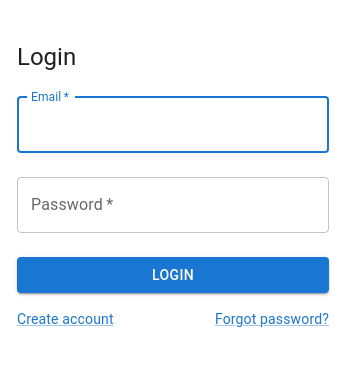
Test: LoginPage › shows error alert on login failure
The width and height of the screenshot is (347, 376).
In the field labelled "Email *": x=173, y=125 [17, 97, 329, 153], type "bad@test.com"
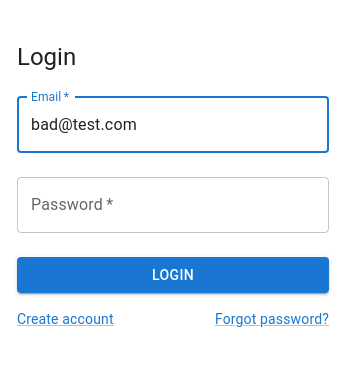
In the password field labelled "Password *": x=173, y=205 [17, 177, 329, 233], type "wrong"
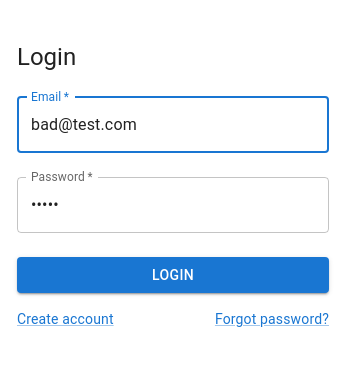
Click the button "Login": x=173, y=275 [17, 257, 329, 293]
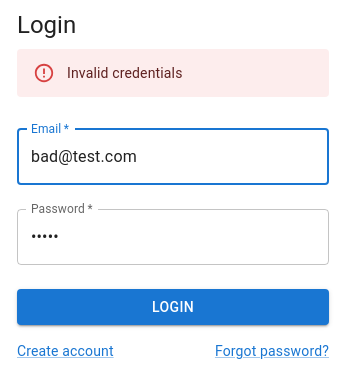
Expected: the text "Invalid credentials" is shown, [67, 65, 182, 81]
